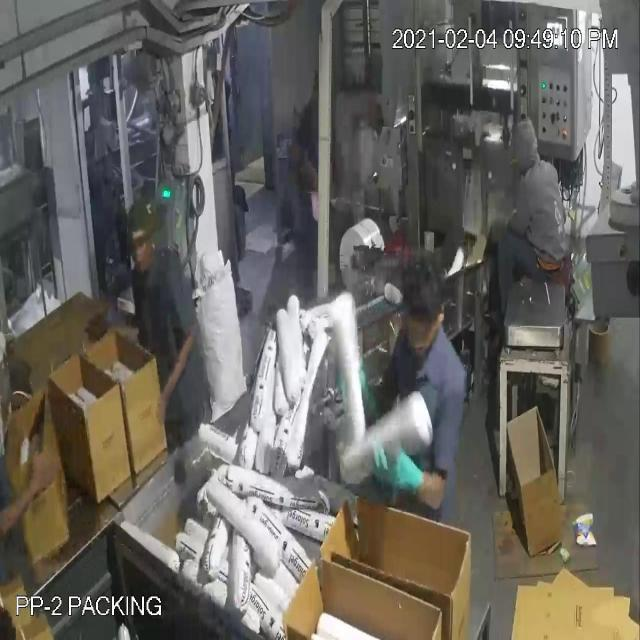No_Gloves: (34, 63, 399, 500)
